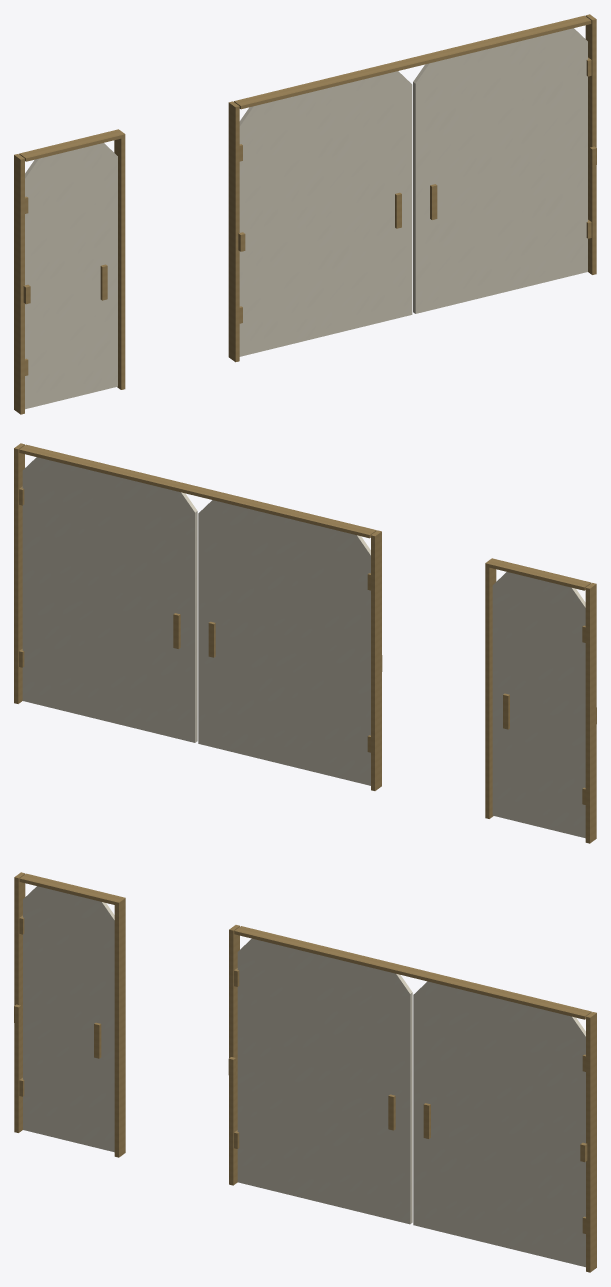
Rendered from D04_PORT_CENTRAL_SHORT_SERVICE_TRANSITIONS_r001.glb.
3 renders of one model, top to bottom at view 1: azimuth 30°, elevation 25°; view 2: azimuth 150°, elevation 25°; view 3: azimuth 330°, elevation 25°, orthographic.
Visible parts, largest first — view 1: PCCShortStockR_Leaf, PCCShortStockL_Leaf, PCCShortReturn_Leaf, PCCShortStockL_JambPivot, PCCShortReturn_JambPivot, PCCShortStockR_JambPivot, PCCShortReturn_JambLatch, PCCShortStockL_Head, PCCShortStockR_Head, PCCShortReturn_Head; view 2: PCCShortStockR_Leaf, PCCShortStockL_Leaf, PCCShortReturn_Leaf, PCCShortReturn_JambPivot, PCCShortStockL_JambPivot, PCCShortStockR_JambPivot, PCCShortReturn_JambLatch, PCCShortStockL_Head, PCCShortStockR_Head, PCCShortReturn_Head; view 3: PCCShortStockL_Leaf, PCCShortStockR_Leaf, PCCShortReturn_Leaf, PCCShortReturn_JambLatch, PCCShortStockR_JambPivot, PCCShortReturn_JambPivot, PCCShortStockL_JambPivot, PCCShortStockL_Head, PCCShortStockR_Head, PCCShortReturn_Head.
Part boxes in pixels (box(x1,y1,x2,y2)): PCCShortStockR_Leaf: box(413, 28, 587, 313); PCCShortStockL_Leaf: box(239, 71, 412, 356); PCCShortReturn_Leaf: box(25, 143, 117, 409); PCCShortStockL_JambPivot: box(228, 101, 239, 362); PCCShortReturn_JambPivot: box(14, 154, 24, 414); PCCShortStockR_JambPivot: box(585, 14, 596, 274); PCCShortReturn_JambLatch: box(114, 129, 125, 389); PCCShortStockL_Head: box(234, 58, 418, 109); PCCShortStockR_Head: box(407, 15, 591, 67); PCCShortReturn_Head: box(19, 130, 124, 161); PCCShortStockR_Leaf: box(22, 457, 197, 742); PCCShortStockL_Leaf: box(198, 500, 370, 785); PCCShortReturn_Leaf: box(492, 572, 585, 838); PCCShortReturn_JambPivot: box(585, 583, 596, 843); PCCShortStockL_JambPivot: box(371, 530, 381, 790); PCCShortStockR_JambPivot: box(14, 443, 24, 703); PCCShortReturn_JambLatch: box(485, 558, 496, 818); PCCShortStockL_Head: box(192, 487, 376, 538); PCCShortStockR_Head: box(19, 444, 203, 494); PCCShortReturn_Head: box(486, 559, 591, 590); PCCShortStockL_Leaf: box(237, 938, 412, 1224); PCCShortStockR_Leaf: box(413, 981, 585, 1267); PCCShortReturn_Leaf: box(23, 886, 114, 1152); PCCShortReturn_JambLatch: box(114, 897, 125, 1157); PCCShortStockR_JambPivot: box(586, 1012, 596, 1272); PCCShortReturn_JambPivot: box(14, 872, 25, 1132); PCCShortStockL_JambPivot: box(229, 925, 239, 1185); PCCShortStockL_Head: box(234, 926, 418, 977); PCCShortStockR_Head: box(407, 969, 591, 1019); PCCShortReturn_Head: box(19, 873, 123, 904).
Bounding box in the file's own units: 5.39 × 2.28 × 0.17.
Materials: 2 (2 with a texture image).
